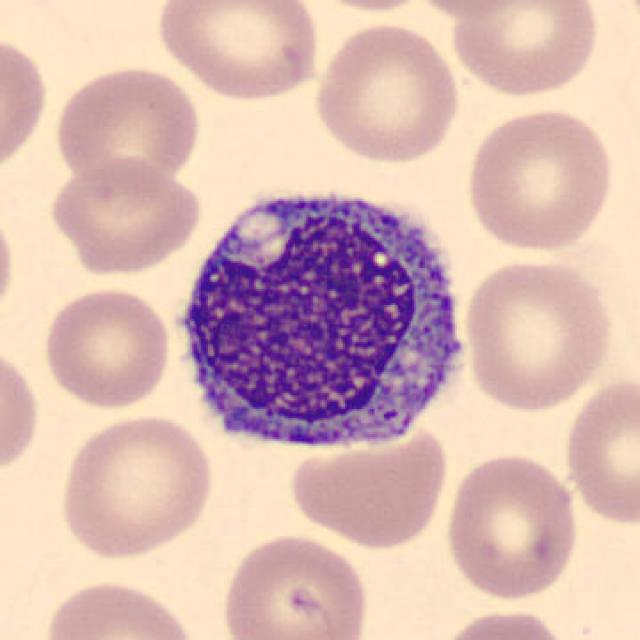Monocyte: (173, 172, 484, 469)
RBC: (460, 254, 617, 416), (53, 410, 217, 560), (462, 104, 617, 256), (309, 18, 464, 166), (284, 416, 452, 552), (441, 450, 581, 603), (45, 153, 206, 277), (52, 62, 205, 192), (153, 0, 325, 104), (39, 284, 174, 412), (217, 529, 371, 640), (444, 0, 602, 100), (558, 372, 638, 529), (37, 576, 200, 640), (0, 28, 52, 176), (0, 341, 43, 482), (433, 606, 574, 640), (0, 200, 20, 332), (405, 0, 538, 19), (295, 0, 443, 16)
